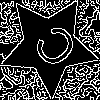C: (24, 20, 80, 78)
